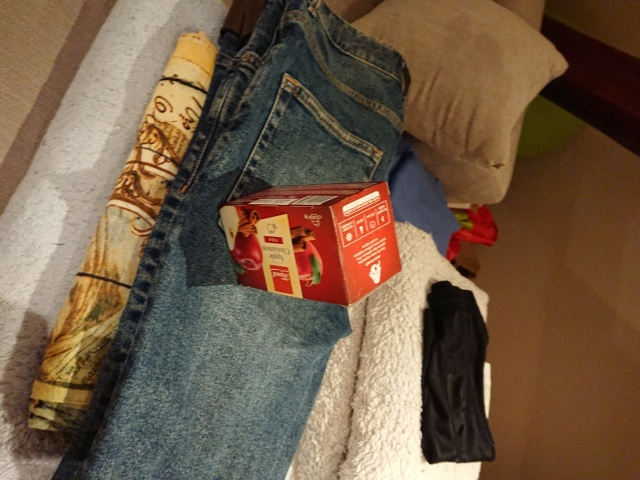Franck Apple Cinnamon Tea 60g: (214, 178, 405, 310)
